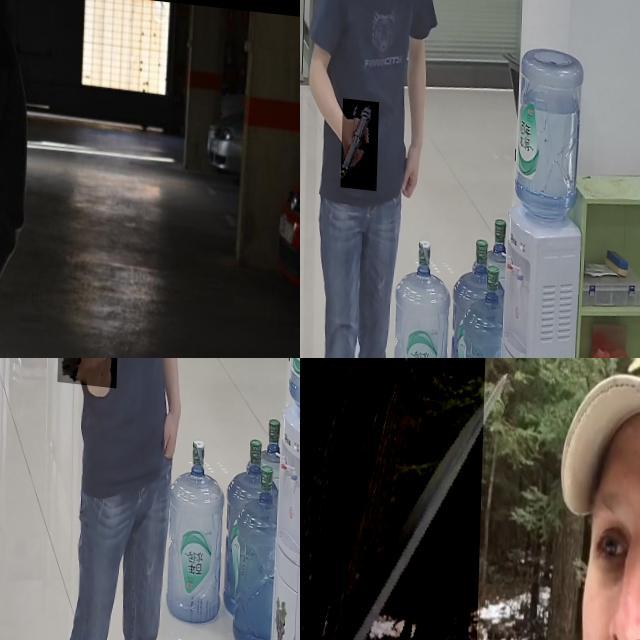-: (300, 358, 486, 640)
gun-knife-thesis - v11 Yolov5 augmented: (342, 91, 380, 183), (59, 358, 120, 409)
